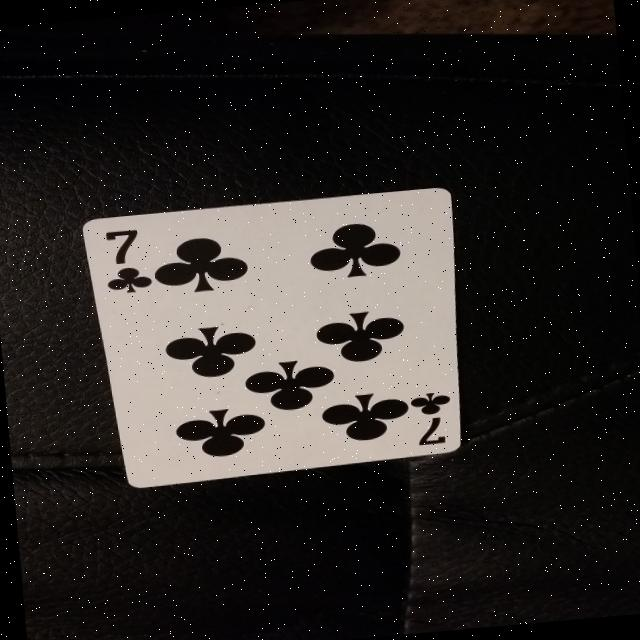7c: (94, 219, 159, 302), (397, 387, 459, 453)
